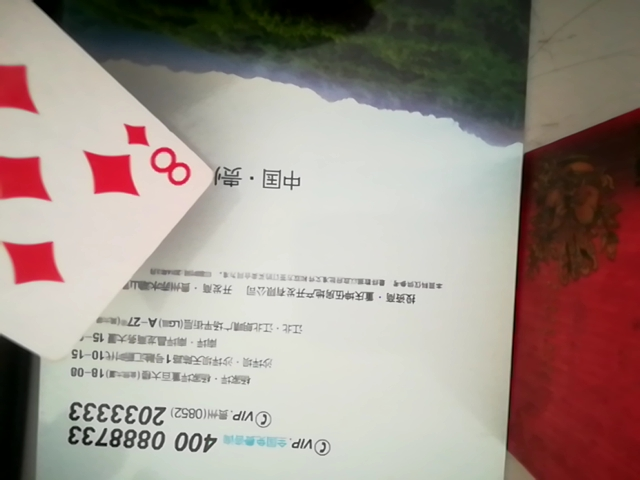fk 8: (0, 0, 217, 368)
